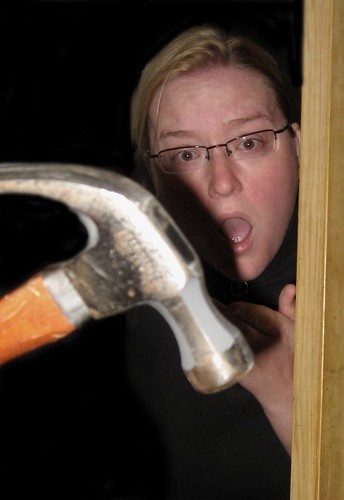hammer: (1, 161, 257, 400)
